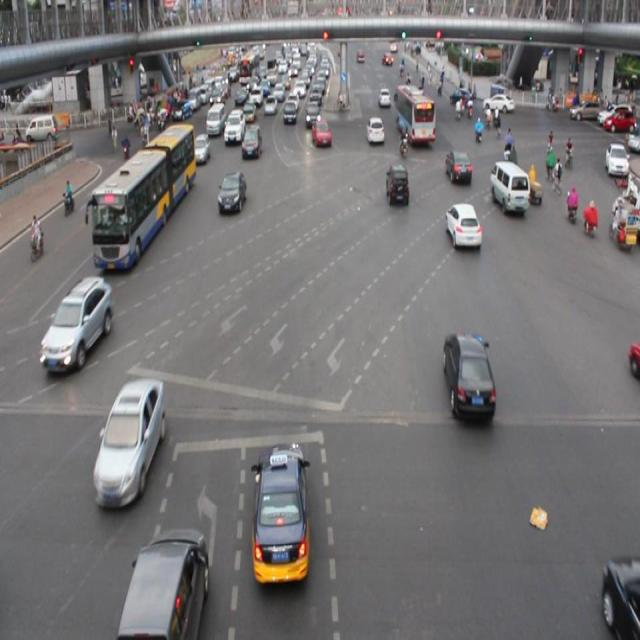car: (93, 377, 163, 508), (250, 441, 312, 585), (42, 277, 110, 372), (443, 331, 495, 424), (604, 556, 640, 640), (445, 201, 481, 252), (216, 172, 246, 216), (385, 162, 410, 206), (444, 147, 472, 185), (240, 124, 263, 162), (224, 108, 245, 143), (310, 115, 332, 148), (192, 132, 210, 170), (364, 116, 384, 145)
truck: (121, 526, 206, 640), (488, 161, 528, 215), (204, 103, 226, 139)
van: (93, 125, 194, 272), (395, 83, 434, 143)
